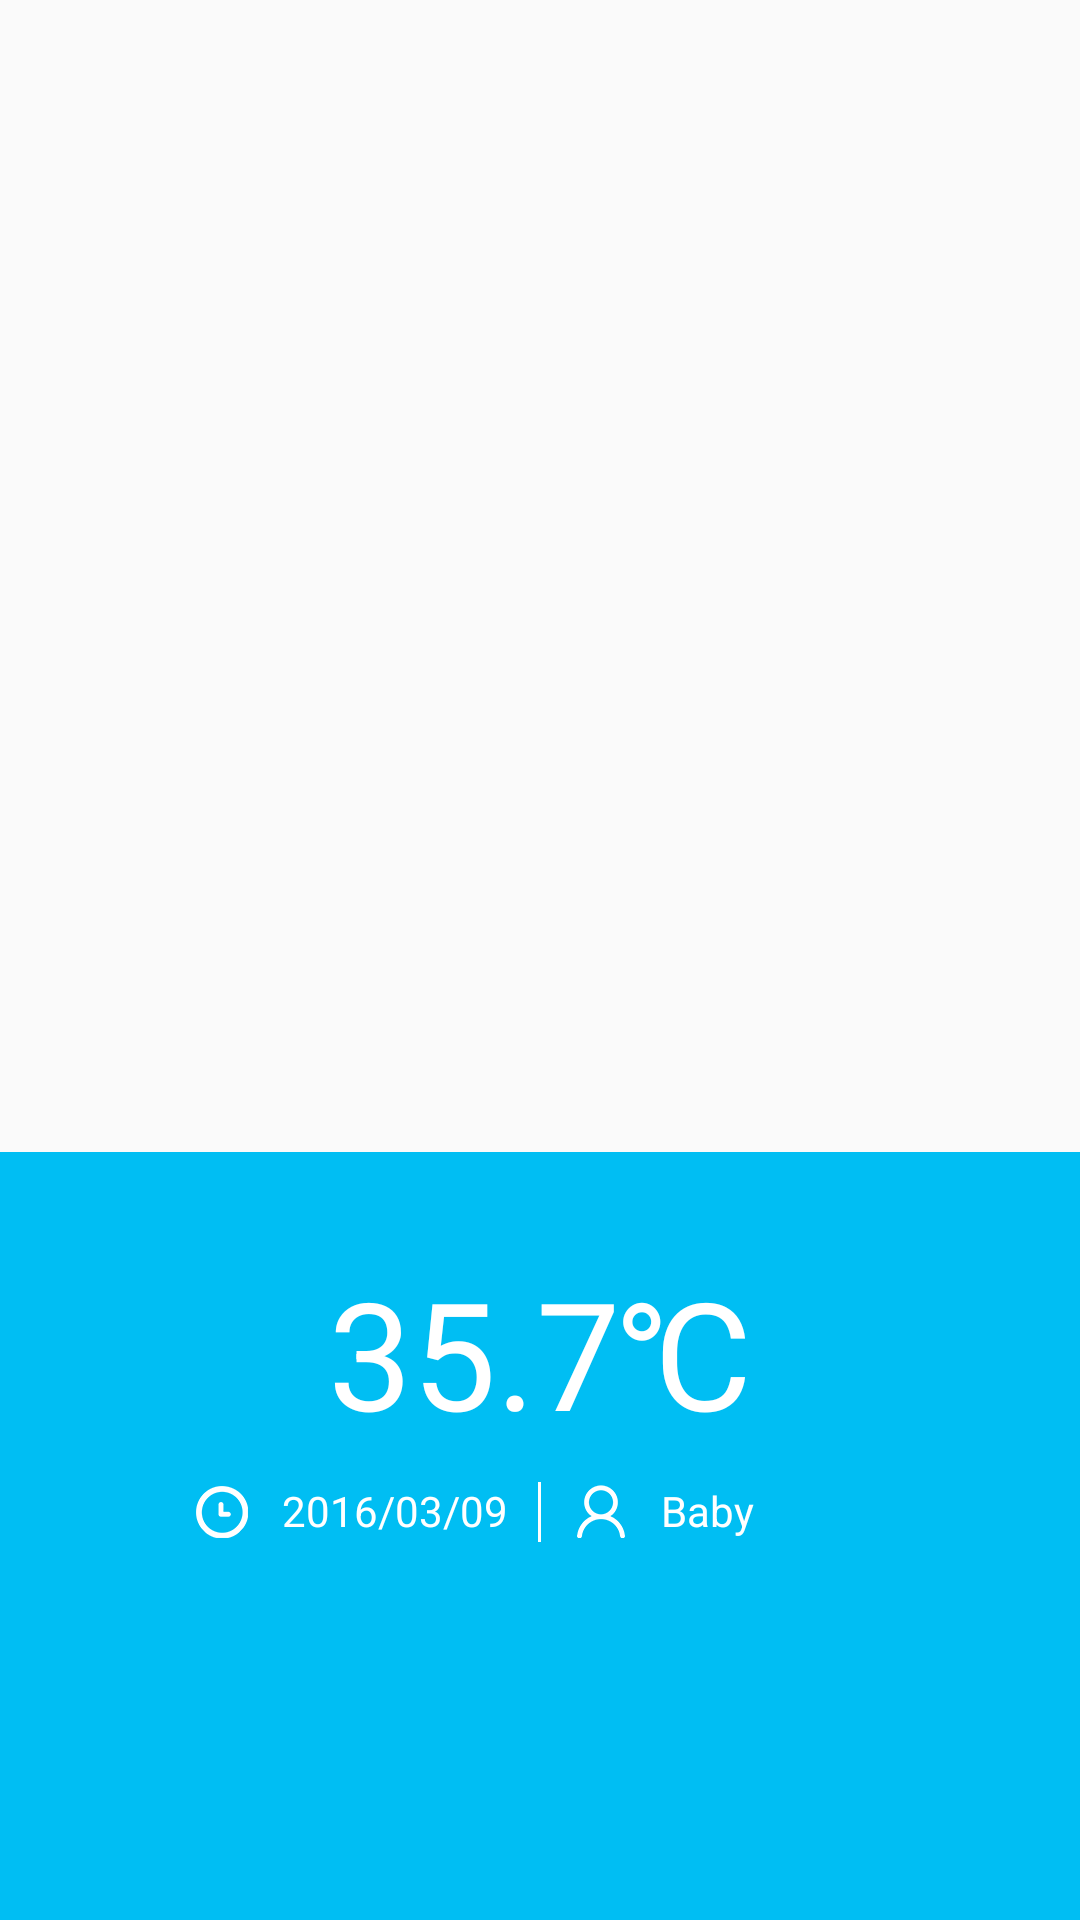

Where icons sit on this 1080w x 1920h app screen, as {"left": x1, "top": y1, "right": x2, "bottom": y2}:
time: {"left": 196, "top": 1486, "right": 248, "bottom": 1538}
user: {"left": 577, "top": 1485, "right": 625, "bottom": 1538}
